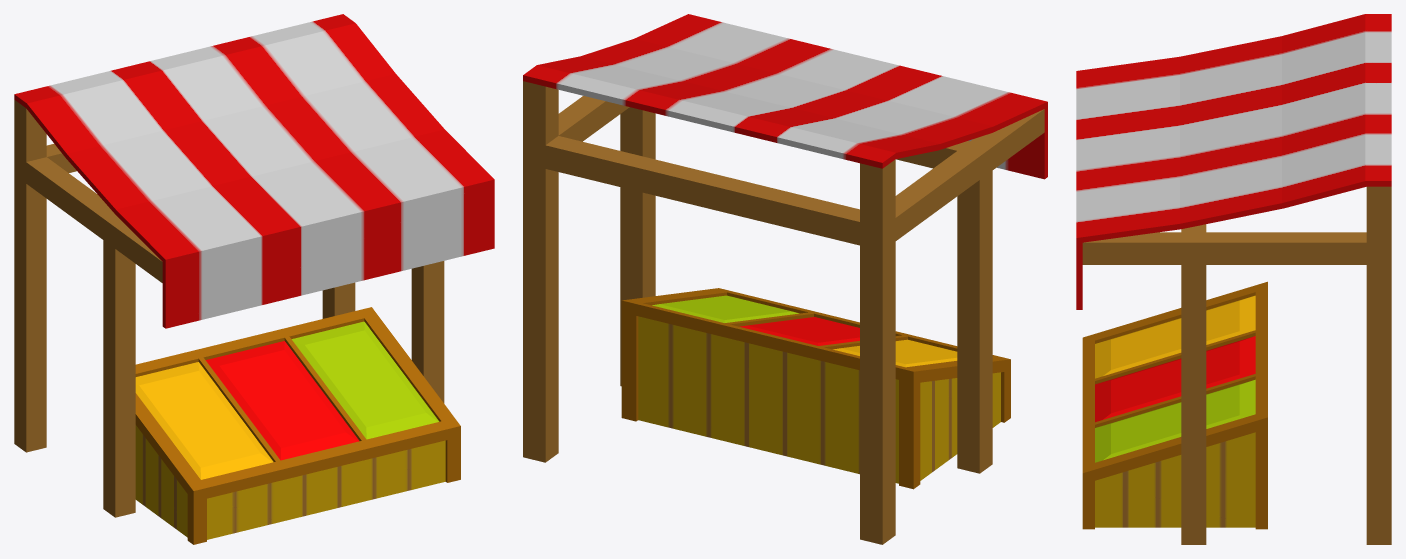
File: MarketStand_01.fbx
3 views of the same model, side by side, from view 1: azimuth 30°, elevation 25°; view 2: azimuth 150°, elevation 25°; view 3: azimuth 270°, elevation 25° (orthographic). The views are drawn at different scales.
Parts seen in each view (by area): view 1: MarketStand_01; view 2: MarketStand_01; view 3: MarketStand_01.
Boxes of the visible parts, <box> form: MarketStand_01: <box>14,14,494,544</box>; MarketStand_01: <box>523,14,1047,544</box>; MarketStand_01: <box>1076,14,1391,544</box>.
Bounding box in the file's own units: 320 × 325 × 255.
Materials: 1 (1 with a texture image).
